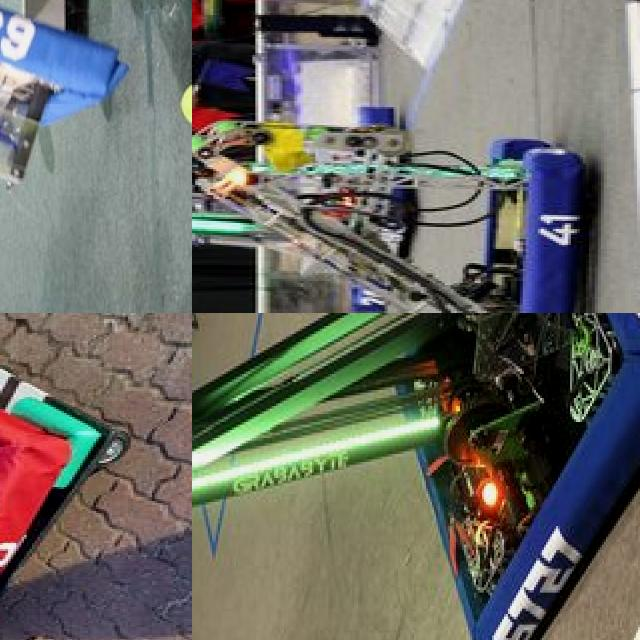FRC-Robots: (192, 313, 640, 640), (192, 111, 583, 313), (0, 313, 192, 640), (0, 0, 134, 271)
